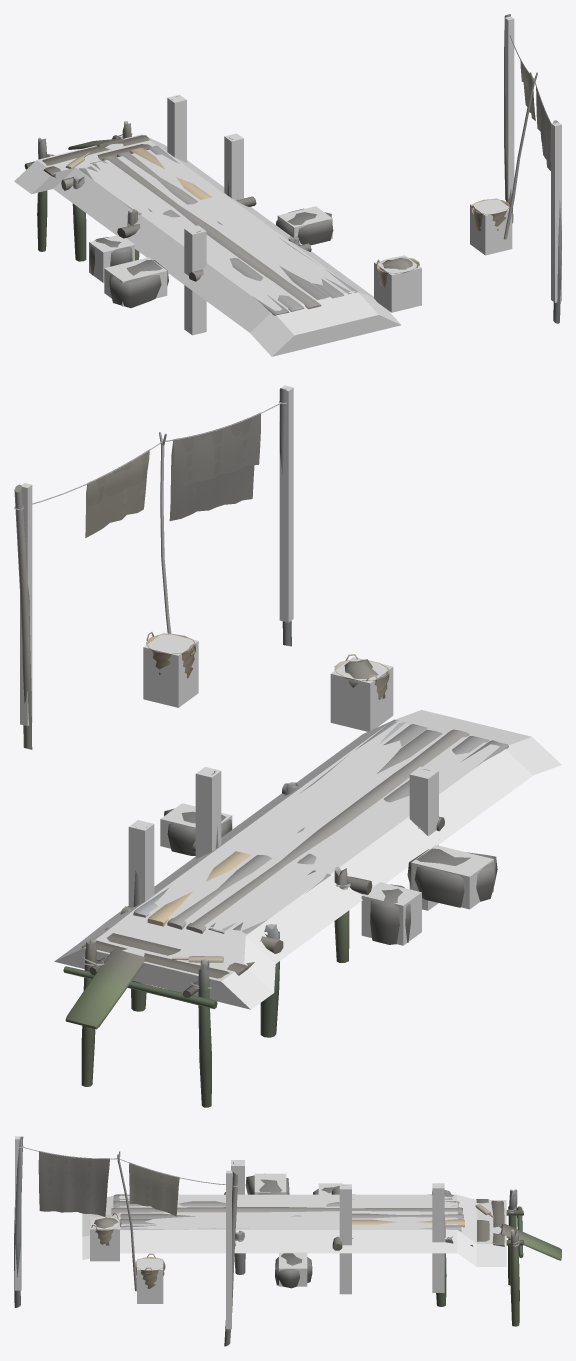
Rendered from wash_stage.glb.
3 renders of one model, top to bottom at view 1: azimuth 30°, elevation 25°; view 2: azimuth 150°, elevation 25°; view 3: azimuth 270°, elevation 25°, orthographic. The views are drawn at different scales.
Visible parts, largest first — view 1: Stage way, Deck / tmb_plank, Wash stones, Basket 0 solid, Deck post 0 solid, Basket 1 solid, Line pole 0 solid, Line pole 1 solid, Deck / tmb_pole, Washing / tmb_linen, Kneeling board / tmb_plank, Deck post 3 solid (+8 smaller); view 2: Stage way, Washing / tmb_linen, Deck / tmb_plank, Wash stones, Kneeling board / tmb_plank, Basket 0 solid, Deck / tmb_pole, Line pole 0 solid, Basket 1 solid, Kneeling board / tmb_pole, Deck post 3 solid, Washing / tmb_pole (+8 smaller); view 3: Stage way, Washing / tmb_linen, Deck / tmb_plank, Kneeling board / tmb_plank, Washing / tmb_pole, Wash stones, Kneeling board / tmb_pole, Deck post 3 solid, Deck post 5 solid, Basket 0 solid, Basket 1 solid, Line pole 1 solid (+8 smaller).
Part boxes in pixels (x1=…): Stage way: x1=14, y1=134, x2=401, y2=356; Deck / tmb_plank: x1=79, y1=145, x2=357, y2=315; Wash stones: x1=89, y1=208, x2=333, y2=308; Basket 0 solid: x1=374, y1=255, x2=421, y2=312; Deck post 0 solid: x1=184, y1=225, x2=206, y2=335; Basket 1 solid: x1=470, y1=198, x2=512, y2=255; Line pole 0 solid: x1=551, y1=122, x2=561, y2=302; Line pole 1 solid: x1=505, y1=16, x2=514, y2=201; Deck / tmb_pole: x1=62, y1=138, x2=311, y2=281; Washing / tmb_linen: x1=380, y1=59, x2=550, y2=270; Kneeling board / tmb_plank: x1=42, y1=135, x2=151, y2=177; Deck post 3 solid: x1=224, y1=133, x2=243, y2=200; Stage way: x1=54, y1=710, x2=561, y2=1009; Washing / tmb_linen: x1=85, y1=412, x2=382, y2=687; Deck / tmb_plank: x1=134, y1=719, x2=508, y2=933; Wash stones: x1=164, y1=808, x2=497, y2=944; Kneeling board / tmb_plank: x1=65, y1=927, x2=254, y2=1028; Basket 0 solid: x1=330, y1=657, x2=393, y2=731; Deck / tmb_pole: x1=120, y1=773, x2=443, y2=1037; Line pole 0 solid: x1=279, y1=385, x2=293, y2=622; Basket 1 solid: x1=143, y1=632, x2=198, y2=707; Kneeling board / tmb_pole: x1=81, y1=942, x2=211, y2=1107; Deck post 3 solid: x1=195, y1=767, x2=221, y2=858; Washing / tmb_pole: x1=14, y1=388, x2=291, y2=647; Stage way: x1=82, y1=1194, x2=506, y2=1266; Washing / tmb_linen: x1=38, y1=1151, x2=179, y2=1228; Deck / tmb_plank: x1=111, y1=1194, x2=464, y2=1231; Kneeling board / tmb_plank: x1=470, y1=1199, x2=561, y2=1260; Washing / tmb_pole: x1=14, y1=1137, x2=237, y2=1307; Wash stones: x1=245, y1=1175, x2=339, y2=1288; Kneeling board / tmb_pole: x1=488, y1=1190, x2=523, y2=1326; Deck post 3 solid: x1=339, y1=1184, x2=351, y2=1294; Deck post 5 solid: x1=432, y1=1183, x2=444, y2=1292; Basket 0 solid: x1=90, y1=1216, x2=119, y2=1261; Basket 1 solid: x1=137, y1=1258, x2=163, y2=1303; Line pole 1 solid: x1=226, y1=1170, x2=231, y2=1329.
Bounding box in the file's own units: 5.05 × 3.61 × 7.28.
